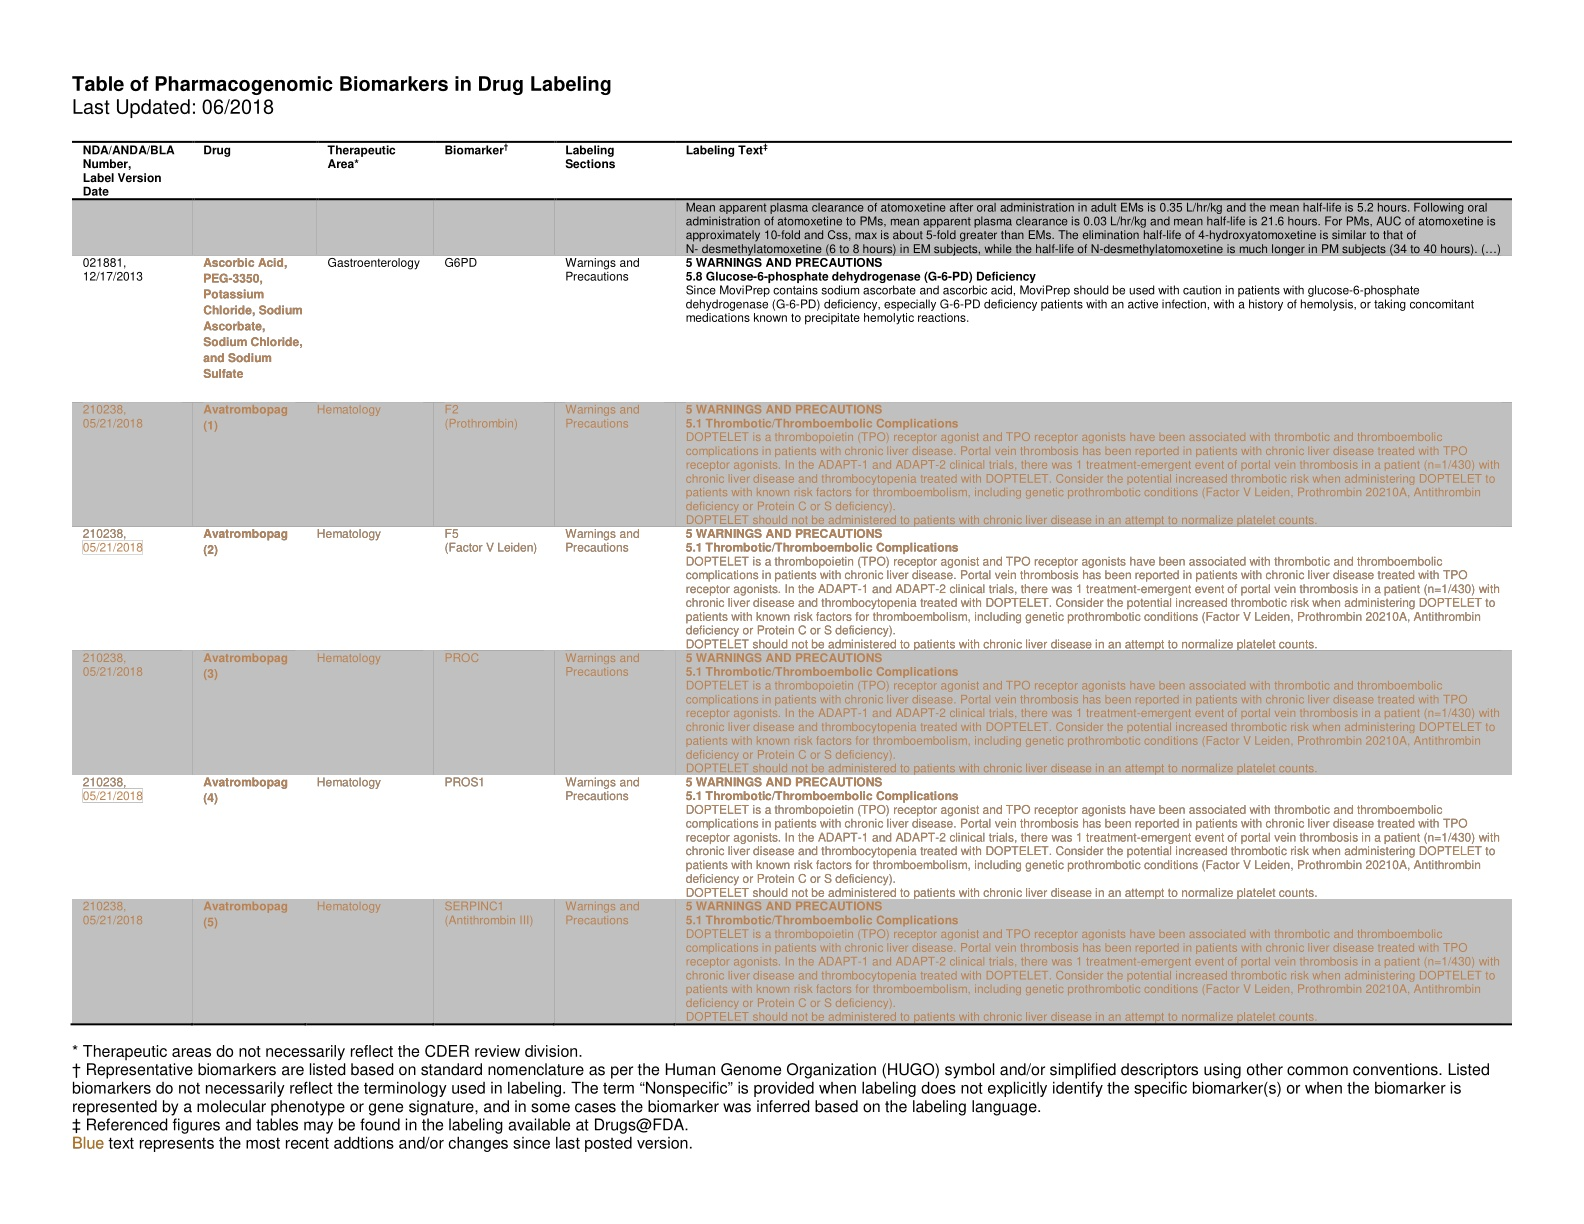partial_lined: (71, 140, 1513, 1026)
